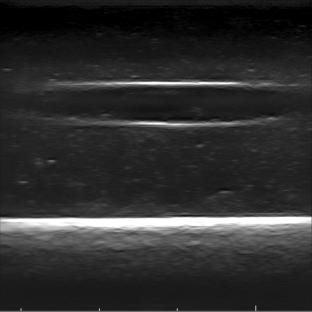vessel: (45, 81, 279, 130)
